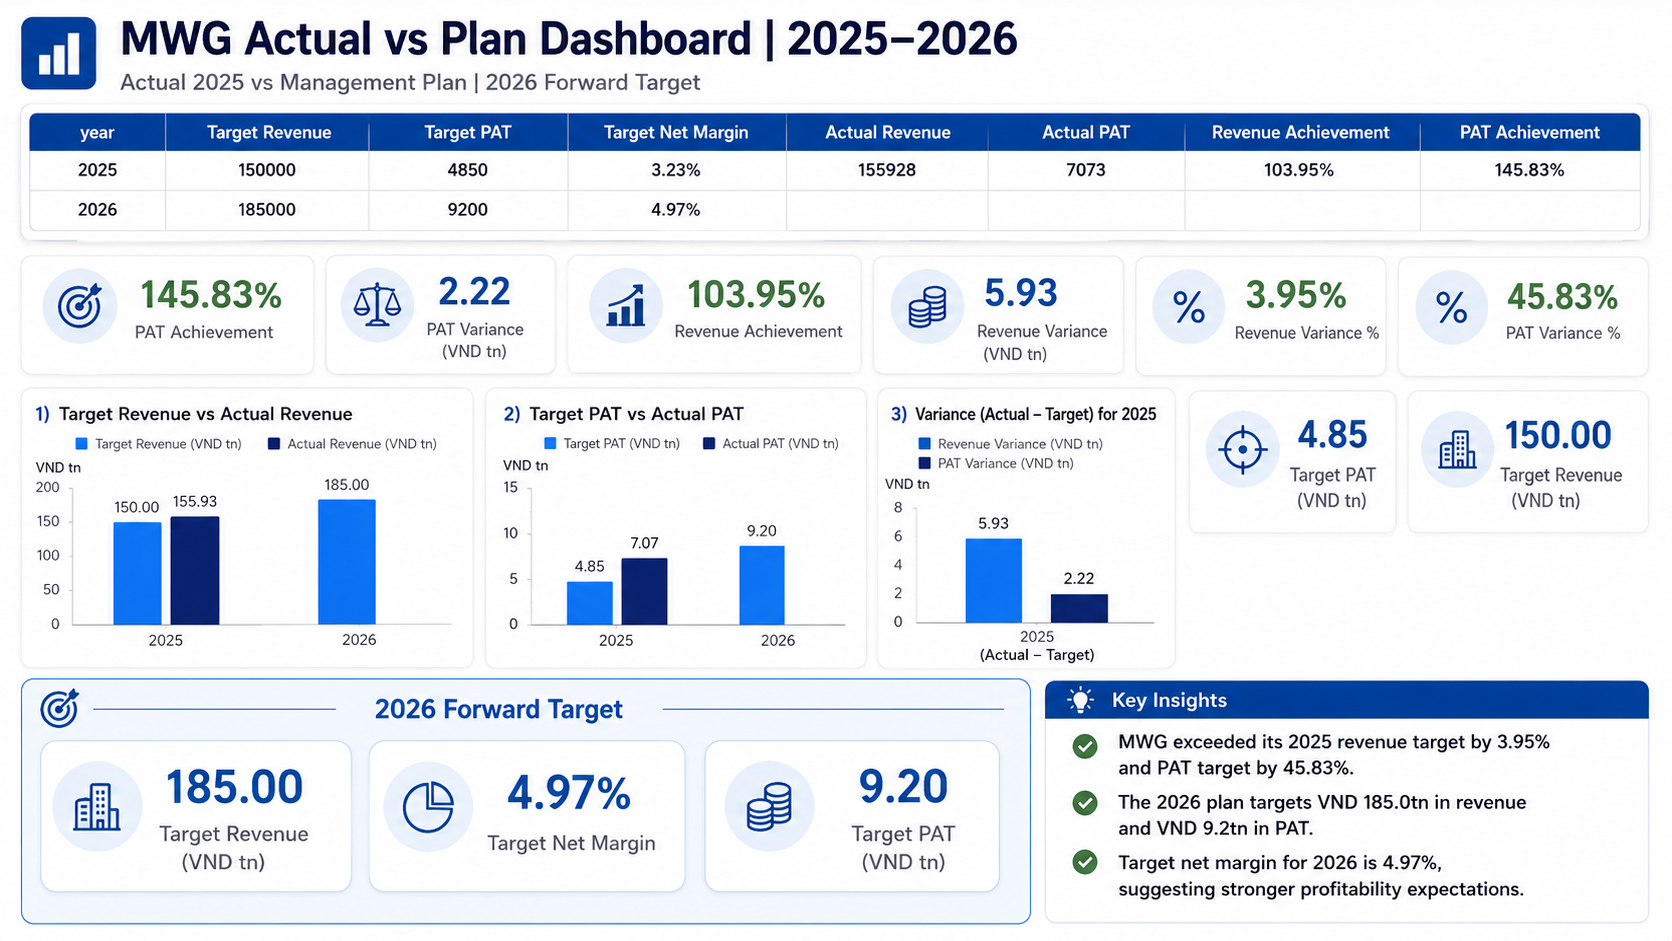

This screenshot's page, from the dashboard's own definition file:
{"tool":"powerbi","page":{"name":"Actual vs Plan","canvas":[1280,720],"ordinal":2},"visuals":[{"type":"tableEx","fields":{"Values":["fact_business_plan.year","fact_business_plan.Target Revenue","fact_business_plan.Target PAT","fact_business_plan.Target Net Margin","fact_business_plan.Actual Revenue","fact_business_plan.Actual PAT","fact_business_plan.Revenue Achievement","fact_business_plan.PAT Achievement"]},"box":[333.8,0,771.2,95],"z":0},{"type":"clusteredColumnChart","fields":{"Category":["fact_business_plan.year"],"Y":["fact_business_plan.Target Revenue (VND tn)","fact_business_plan.Actual Revenue (VND tn)"]},"box":[0,201,264,217],"z":1000},{"type":"clusteredColumnChart","fields":{"Category":["fact_business_plan.year"],"Y":["fact_business_plan.Target PAT (VND tn)","fact_business_plan.Actual PAT (VND tn)"]},"box":[262.5,207.5,287.5,205],"z":2000},{"type":"cardVisual","fields":{"Data":["fact_business_plan.Revenue Achievement"]},"box":[393.8,107.5,230,95],"z":3000},{"type":"cardVisual","fields":{"Data":["fact_business_plan.PAT Achievement"]},"box":[0,98.8,188.8,108.8],"z":4000},{"type":"cardVisual","fields":{"Data":["fact_business_plan.Target Revenue (VND tn)"]},"box":[1068,210,212,114],"z":5000},{"type":"cardVisual","fields":{"Data":["fact_business_plan.Target PAT (VND tn)"]},"box":[873,210,208,100],"z":6000},{"type":"cardVisual","fields":{"Data":["fact_business_plan.Revenue Variance %"]},"box":[845,100,236.2,95],"z":7000},{"type":"cardVisual","fields":{"Data":["fact_business_plan.Revenue Variance (VND tn)"]},"box":[613.8,100,220,96.2],"z":8000},{"type":"cardVisual","fields":{"Data":["fact_business_plan.PAT Variance (VND tn)"]},"box":[180,107.5,213.8,100],"z":9000},{"type":"cardVisual","fields":{"Data":["fact_business_plan.PAT Variance %"]},"box":[1048.8,90,231.2,112.5],"z":10000},{"type":"tableEx","fields":{"Values":["fact_business_plan.Target Revenue","fact_business_plan.Actual Revenue","fact_business_plan.Revenue Variance","fact_business_plan.Revenue Achievement","fact_business_plan.Target PAT","fact_business_plan.Actual PAT","fact_business_plan.PAT Variance","fact_business_plan.PAT Achievement"]},"box":[0,425,856.2,71.2],"z":11000},{"type":"clusteredColumnChart","fields":{"Category":["fact_business_plan.year"],"Y":["fact_business_plan.Revenue Variance (VND tn)","fact_business_plan.PAT Variance (VND tn)"]},"box":[558,195,334,217],"z":12000},{"type":"textbox","box":[810,514.3,460,184.3],"z":13000},{"type":"textbox","box":[0,0,311.2,82.5],"z":14000},{"type":"textbox","box":[0,74.3,321.4,47.1],"z":15000},{"type":"cardVisual","fields":{"Data":["fact_business_plan.Target PAT (VND tn)"]},"box":[508.8,543.8,241.2,123.8],"z":16000},{"type":"cardVisual","fields":{"Data":["fact_business_plan.Target Revenue (VND tn)"]},"box":[0,554.3,237.1,122.9],"z":17000},{"type":"cardVisual","fields":{"Data":["fact_business_plan.Target Net Margin"]},"box":[234.3,554.3,200,122.9],"z":18000},{"type":"textbox","box":[228.6,514.3,211.4,40],"z":20000}]}

Visuals, with their boxes in screenshot pixels (x1, y1, x2, y2), scaled from the page's 1280x720 canvas onto the 1672x941 screenshot:
tableEx - fact_business_plan.year x fact_business_plan.Target Revenue: l=436, t=0, r=1443, b=124
clusteredColumnChart - fact_business_plan.year x fact_business_plan.Target Revenue (VND tn): l=0, t=263, r=345, b=546
clusteredColumnChart - fact_business_plan.year x fact_business_plan.Target PAT (VND tn): l=343, t=271, r=718, b=539
cardVisual - fact_business_plan.Revenue Achievement: l=514, t=140, r=815, b=265
cardVisual - fact_business_plan.PAT Achievement: l=0, t=129, r=247, b=271
cardVisual - fact_business_plan.Target Revenue (VND tn): l=1395, t=274, r=1671, b=423
cardVisual - fact_business_plan.Target PAT (VND tn): l=1140, t=274, r=1412, b=405
cardVisual - fact_business_plan.Revenue Variance %: l=1104, t=131, r=1412, b=255
cardVisual - fact_business_plan.Revenue Variance (VND tn): l=802, t=131, r=1089, b=256
cardVisual - fact_business_plan.PAT Variance (VND tn): l=235, t=140, r=514, b=271
cardVisual - fact_business_plan.PAT Variance %: l=1370, t=118, r=1671, b=265
tableEx - fact_business_plan.Target Revenue x fact_business_plan.Actual Revenue: l=0, t=555, r=1118, b=649
clusteredColumnChart - fact_business_plan.year x fact_business_plan.Revenue Variance (VND tn): l=729, t=255, r=1165, b=538
textbox: l=1058, t=672, r=1659, b=913
textbox: l=0, t=0, r=407, b=108
textbox: l=0, t=97, r=420, b=159
cardVisual - fact_business_plan.Target PAT (VND tn): l=665, t=711, r=980, b=873
cardVisual - fact_business_plan.Target Revenue (VND tn): l=0, t=724, r=310, b=885
cardVisual - fact_business_plan.Target Net Margin: l=306, t=724, r=567, b=885
textbox: l=299, t=672, r=575, b=724
